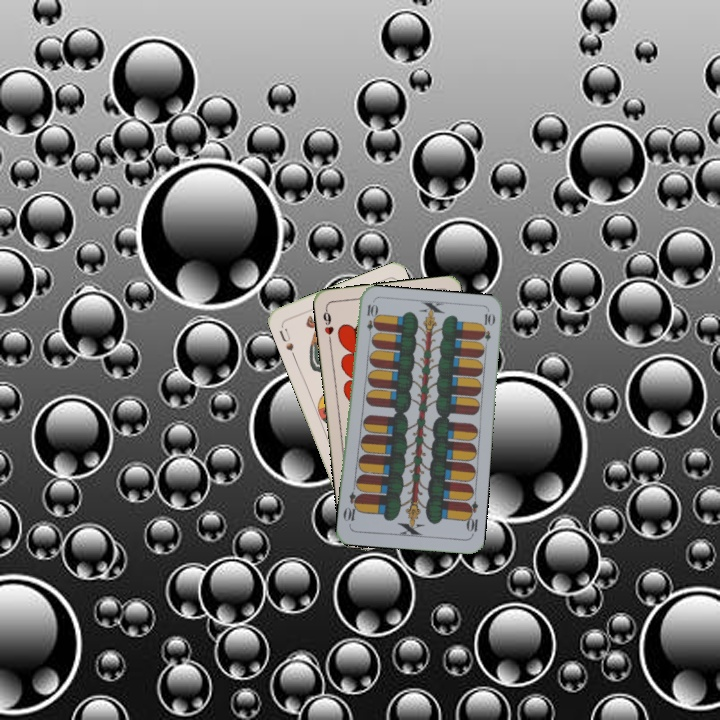E10: (461, 498, 480, 538), (362, 300, 378, 341)
H9: (319, 304, 336, 345)
SU: (275, 324, 298, 360)
